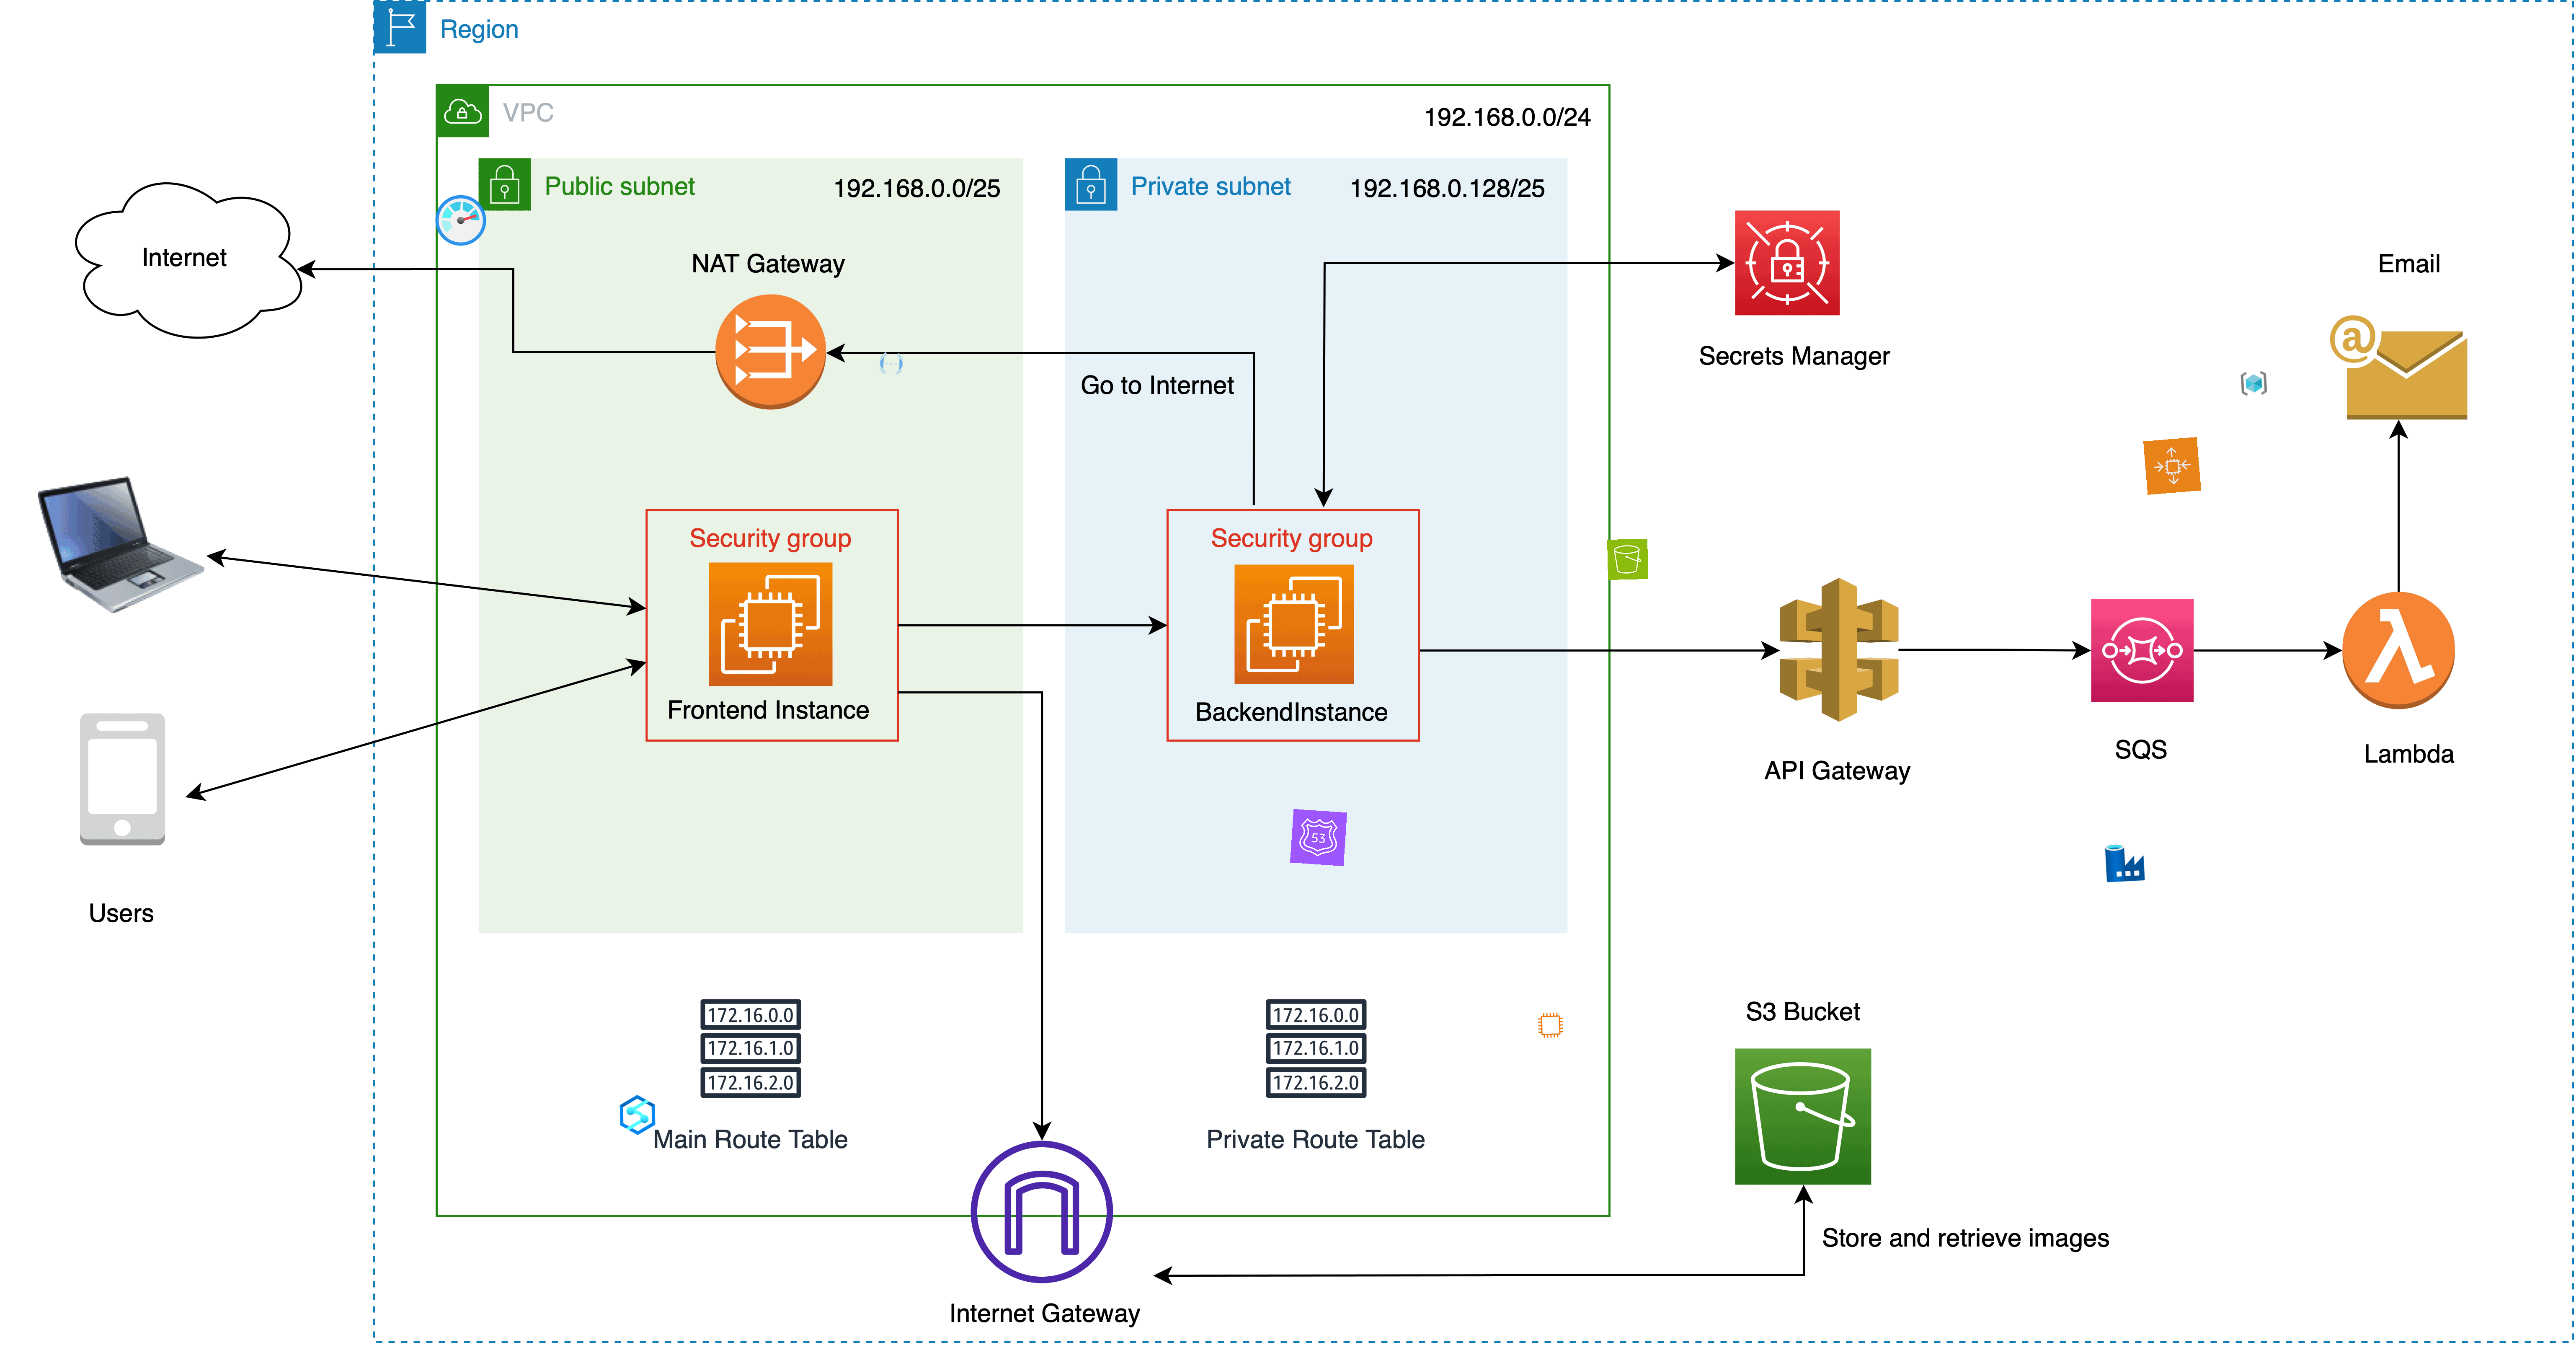aws_amazon_ec2_auto_scaling: (2143, 436, 2201, 496)
aws_amazon_route_53: (1290, 808, 1348, 866)
aws_amazon_simple_storage_service: (1607, 539, 1649, 580)
aws_ec2_instance: (1537, 1011, 1566, 1040)
azure_data_factories: (2104, 840, 2147, 883)
azure_monitor: (431, 191, 489, 249)
azure_resource_groups: (2240, 370, 2268, 397)
azure_synapse_analytics: (617, 1094, 658, 1135)
gcp_cloud_functions: (877, 349, 906, 378)
